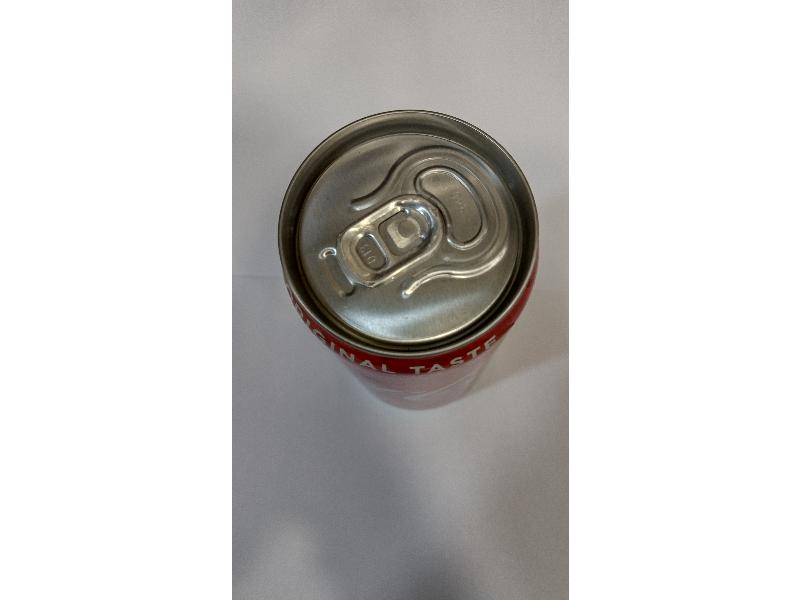can: (276, 106, 541, 368)
